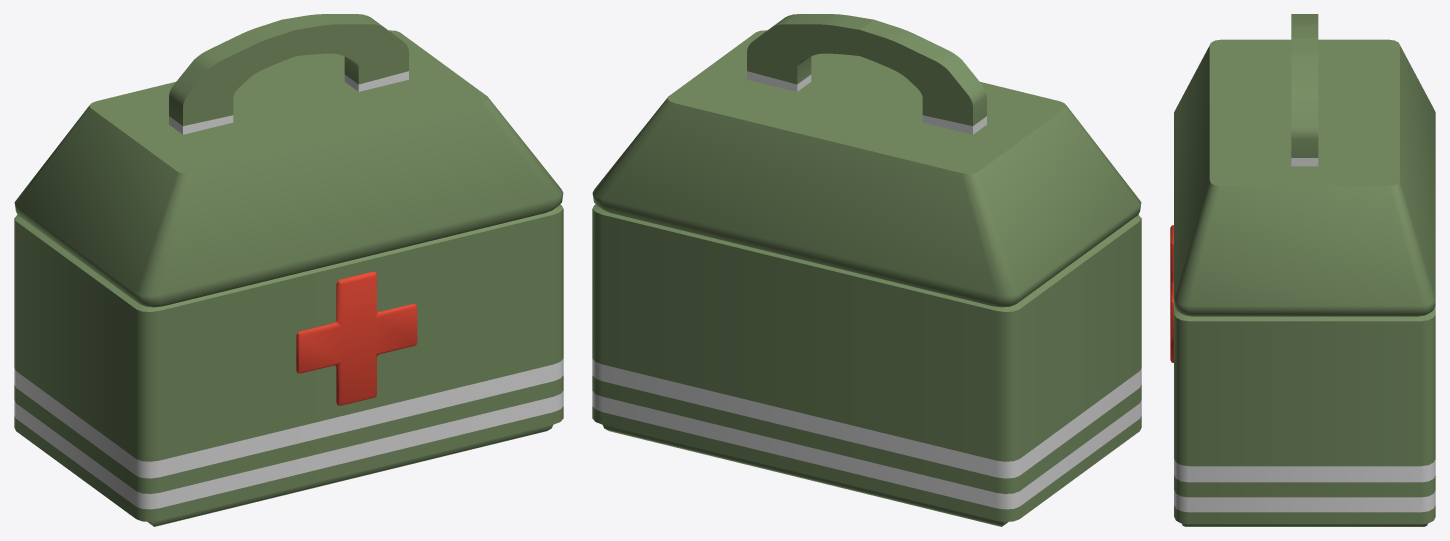
Rendered from medkit.fbx.
3 views of the same model, side by side, from view 1: azimuth 30°, elevation 25°; view 2: azimuth 150°, elevation 25°; view 3: azimuth 270°, elevation 25° (orthographic). The views are drawn at different scales.
Visible parts, largest first — view 1: Plane.003; view 2: Plane.003; view 3: Plane.003.
Boxes of the visible parts, x1=… form: Plane.003: x1=14, y1=14, x2=563, y2=526; Plane.003: x1=592, y1=14, x2=1141, y2=526; Plane.003: x1=1170, y1=14, x2=1435, y2=526.
Size of the model in its own units: 339 by 312 by 189.
